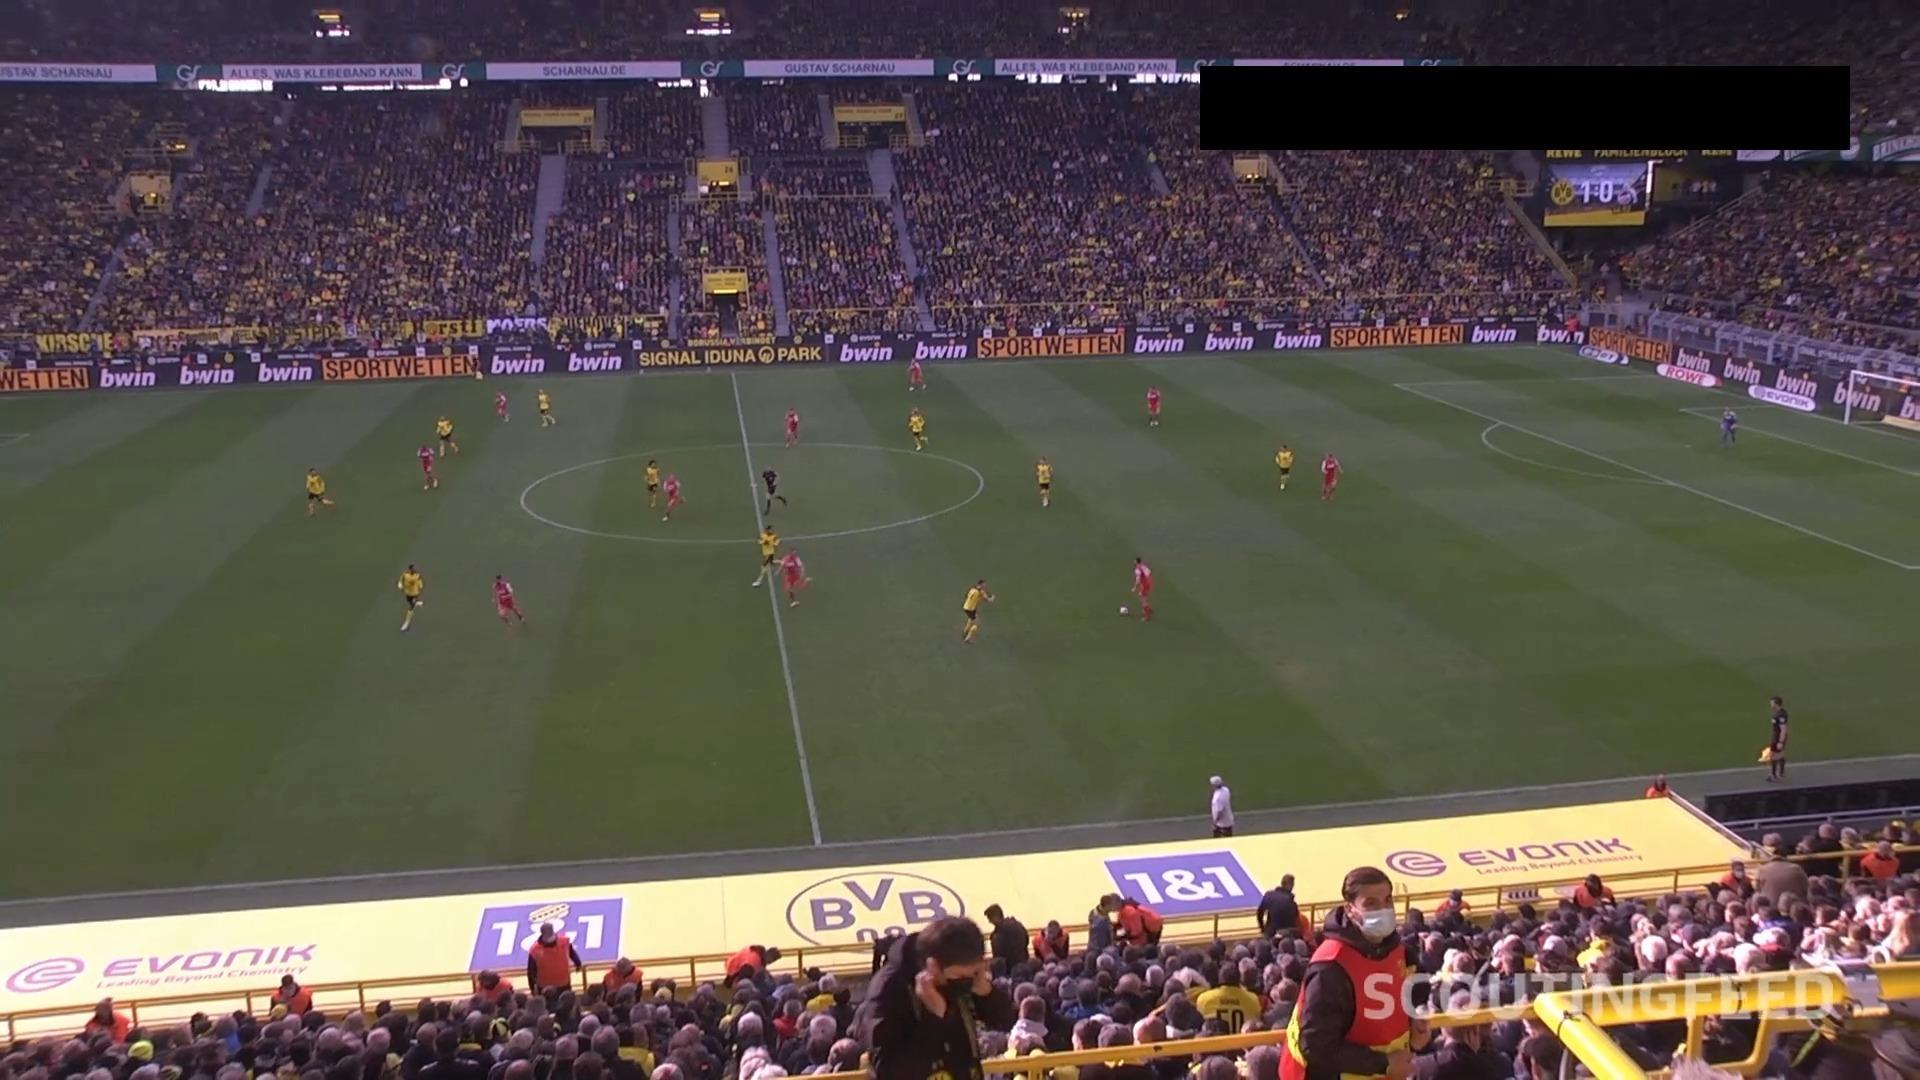ball: (1118, 605, 1130, 616)
